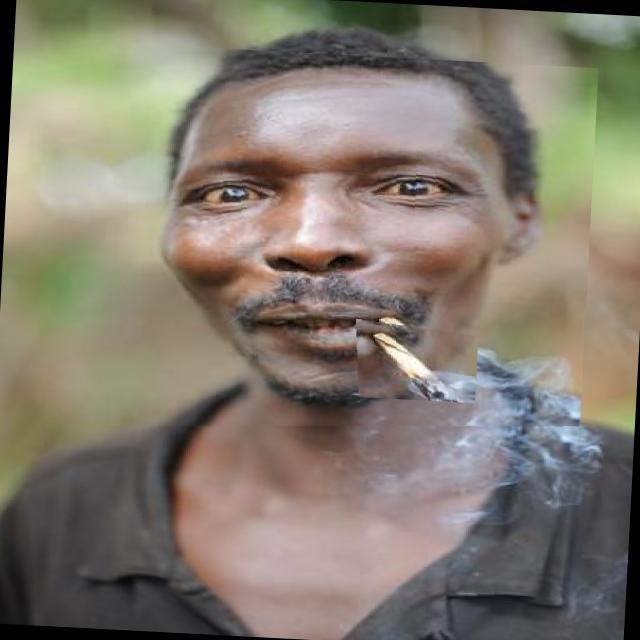cigarette: (352, 319, 479, 403)
